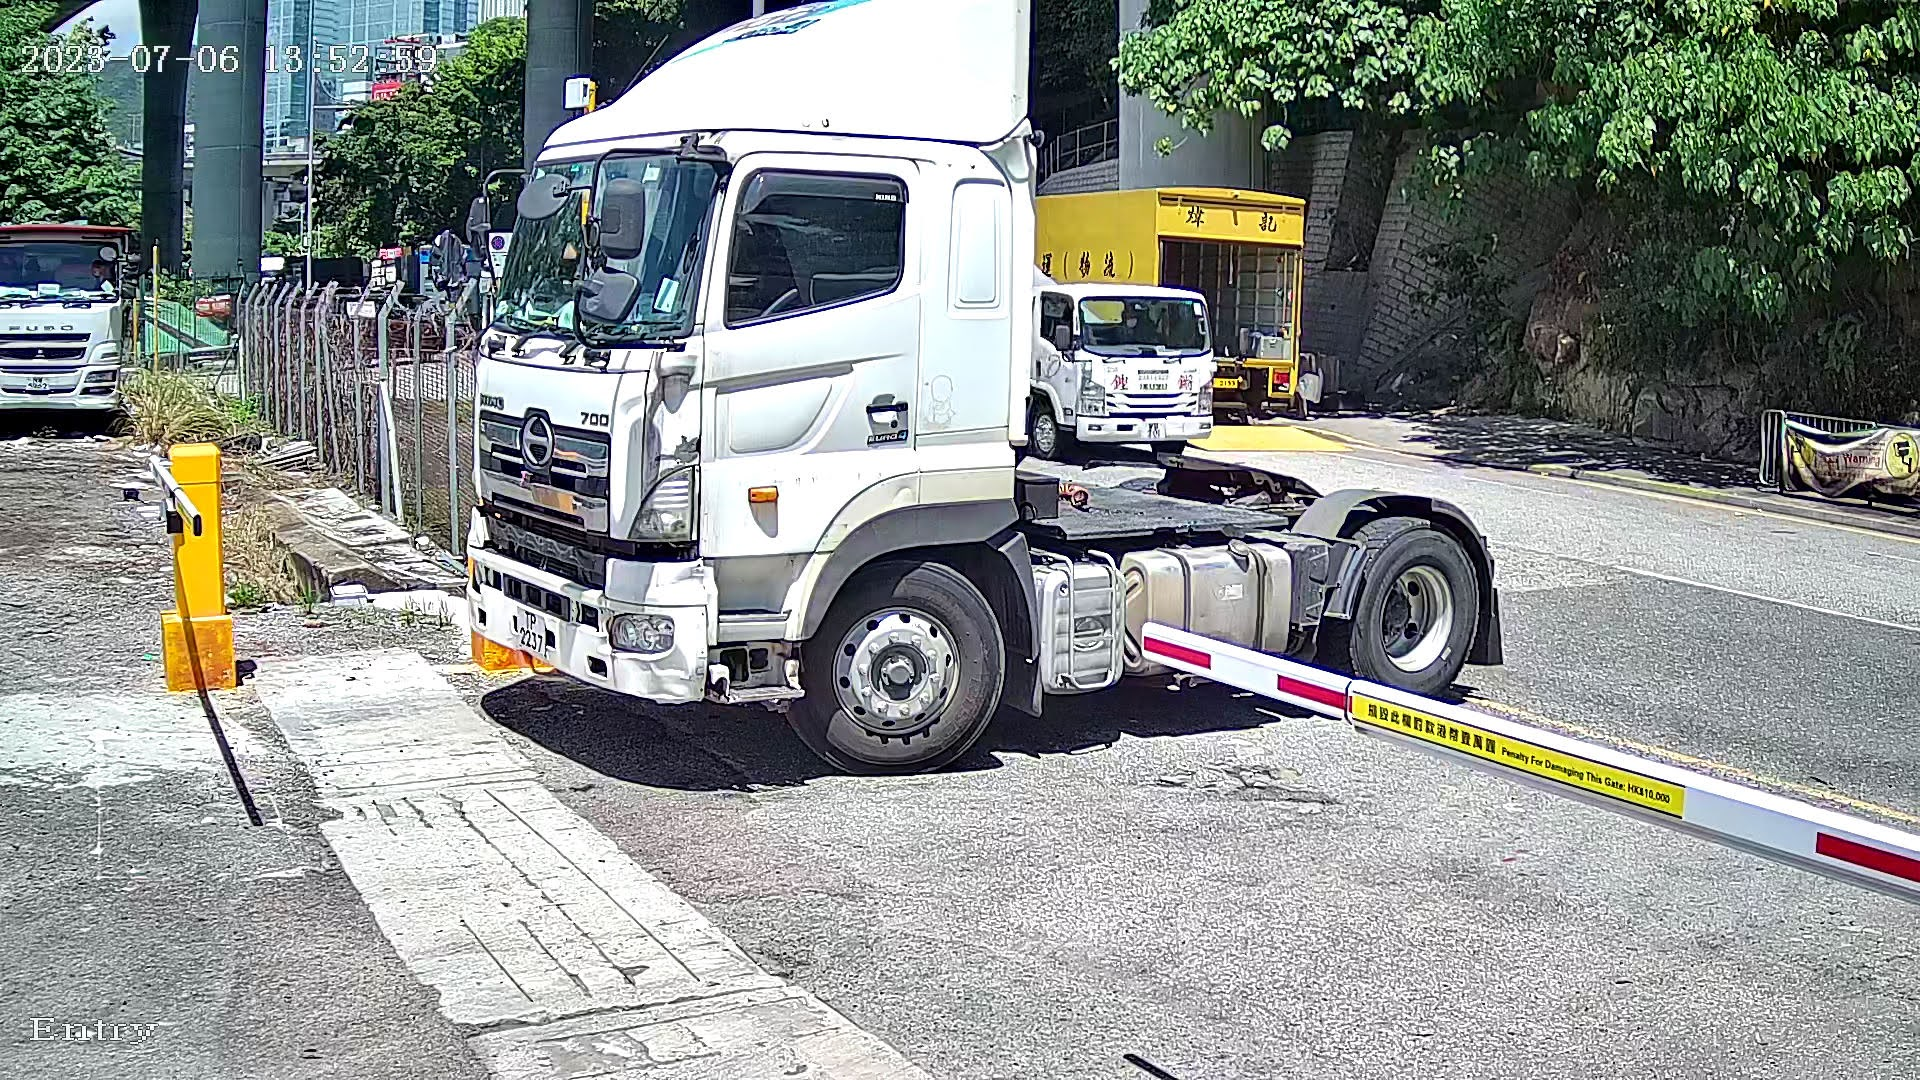tractor: (439, 1, 1534, 848)
